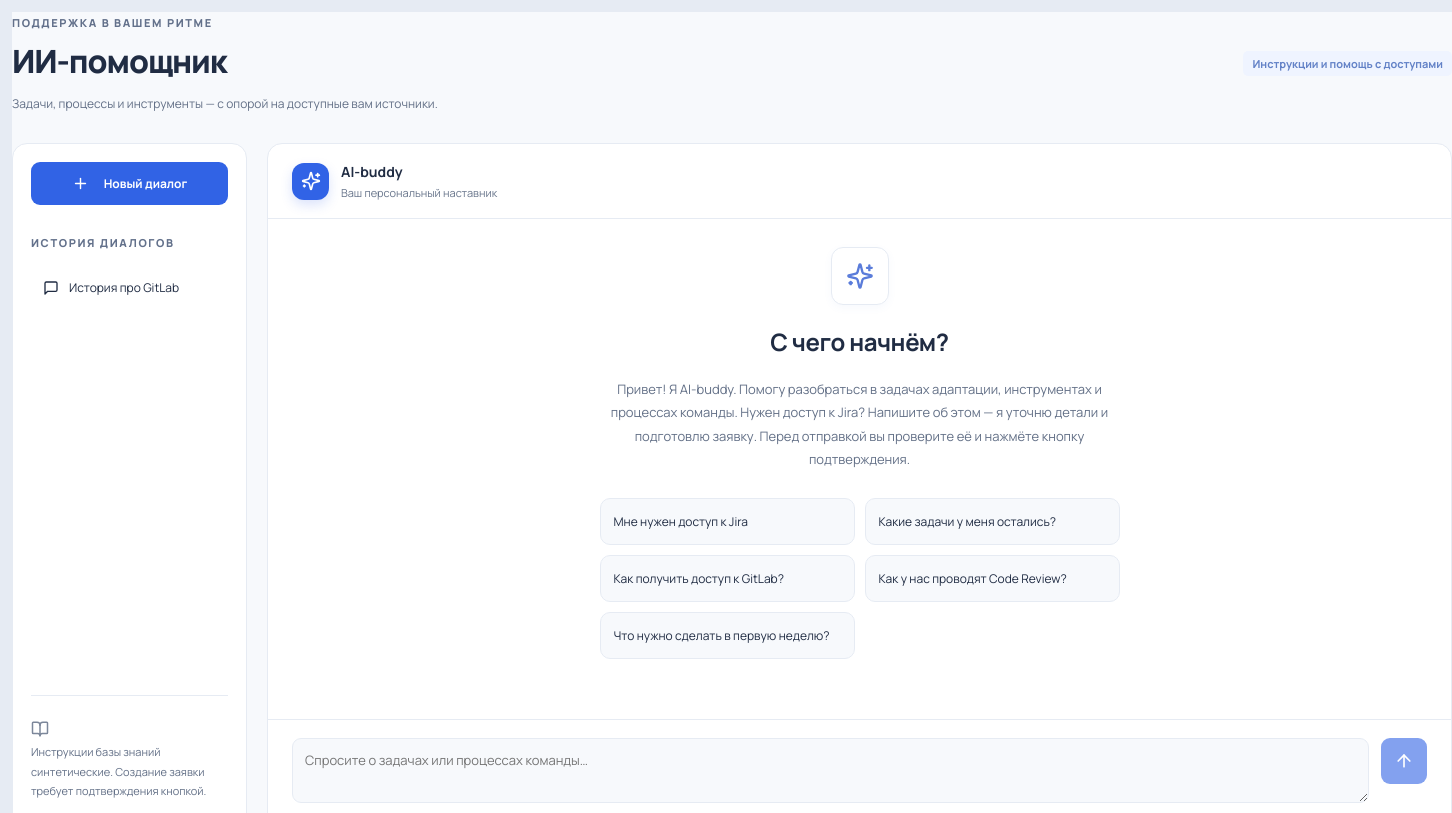
Test: history errors and new conversation errors
(page scrolled)
Check: the text "История про GitLab" is shown, box [69,279,179,296]
Click the button "История про GitLab": (130, 288) [31,267,228,308]
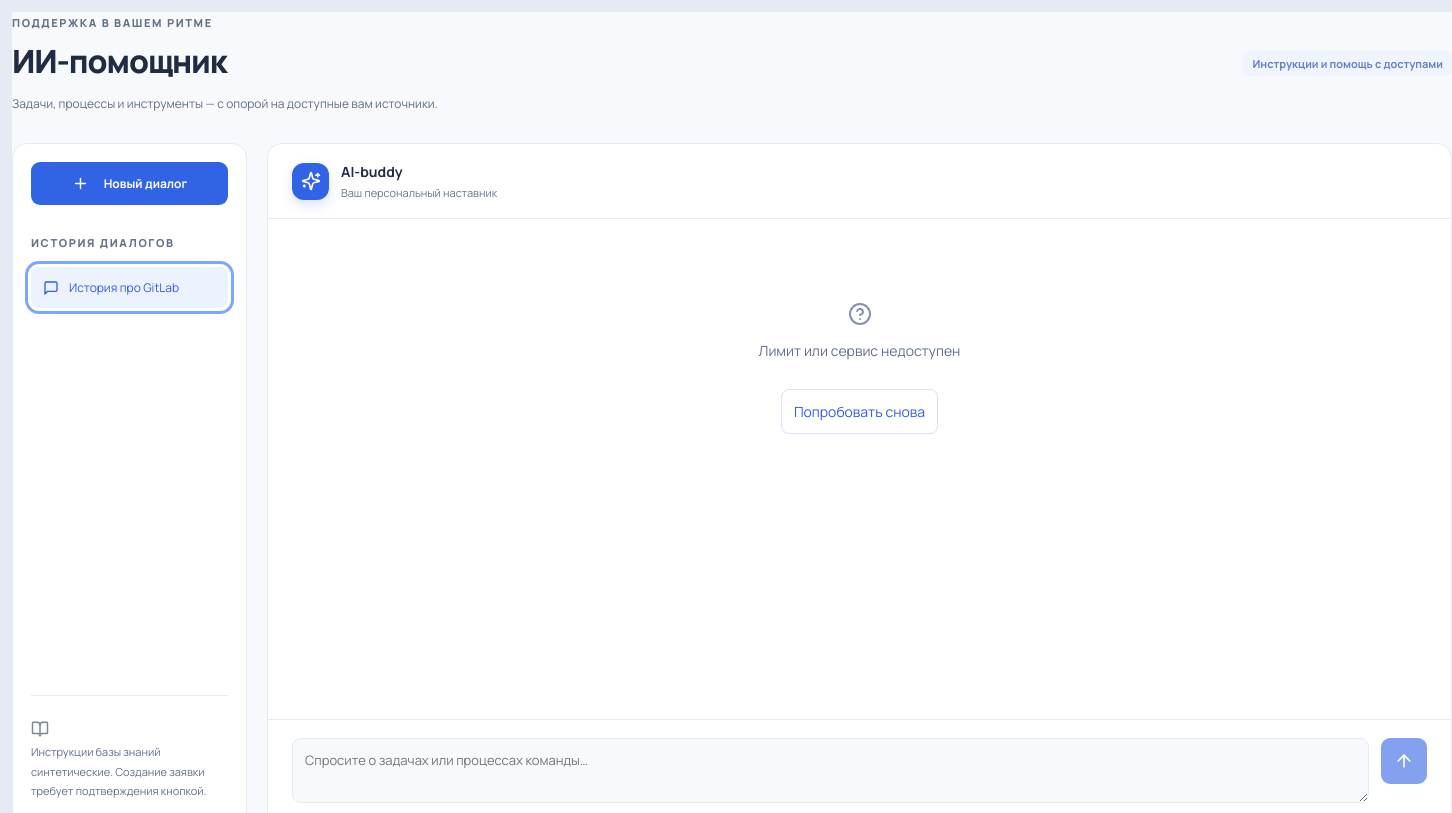
Check: the message "Лимит или сервис недоступен Попробовать снова" is shown, box [759,302,960,434]
Click the button "Попробовать снова": (860, 412) [781,389,938,434]
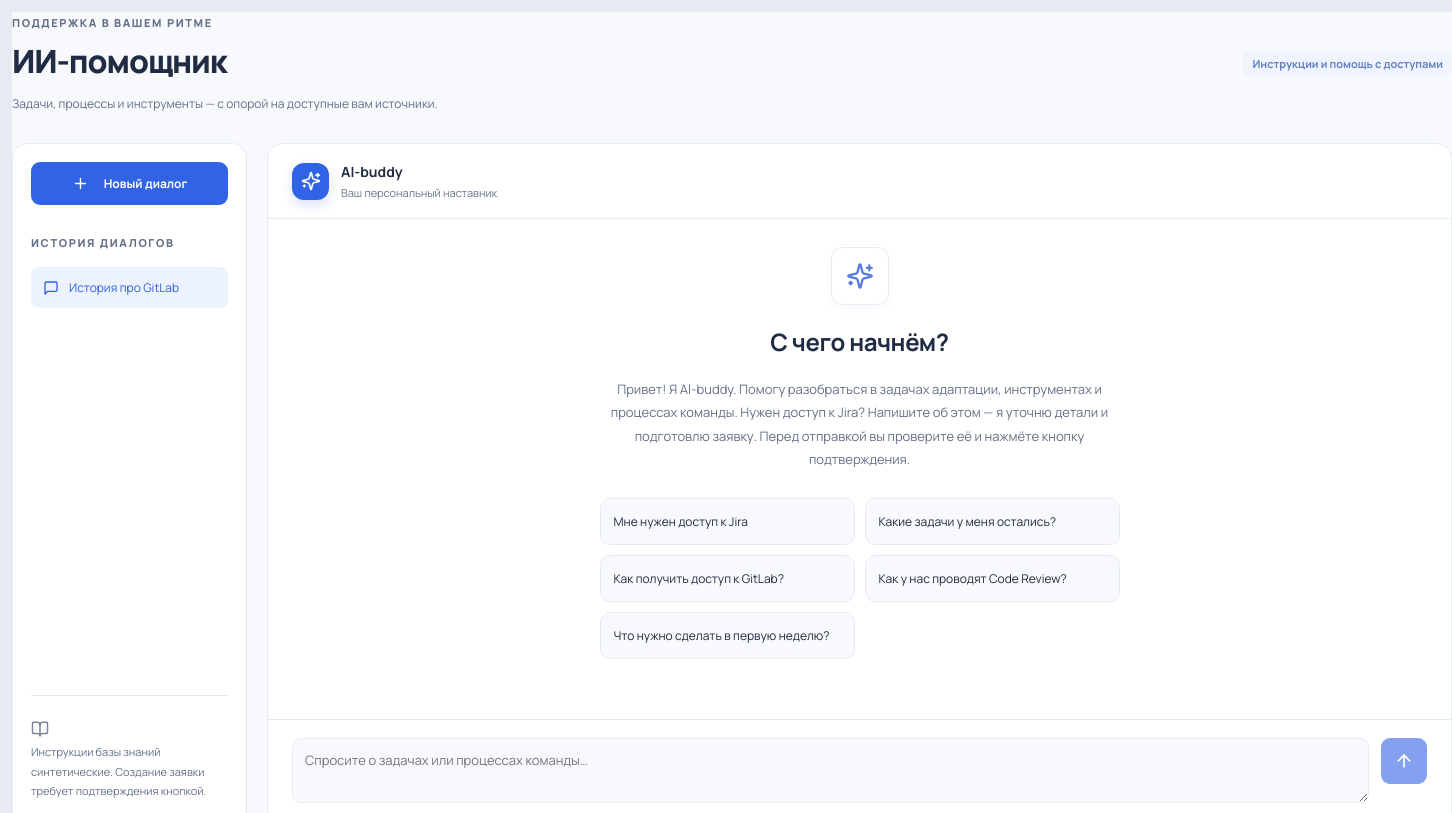
Check: the heading "С чего начнём?" is shown, box [770,325,949,358]
Click the button "Новый диалог": (130, 184) [31,162,228,205]
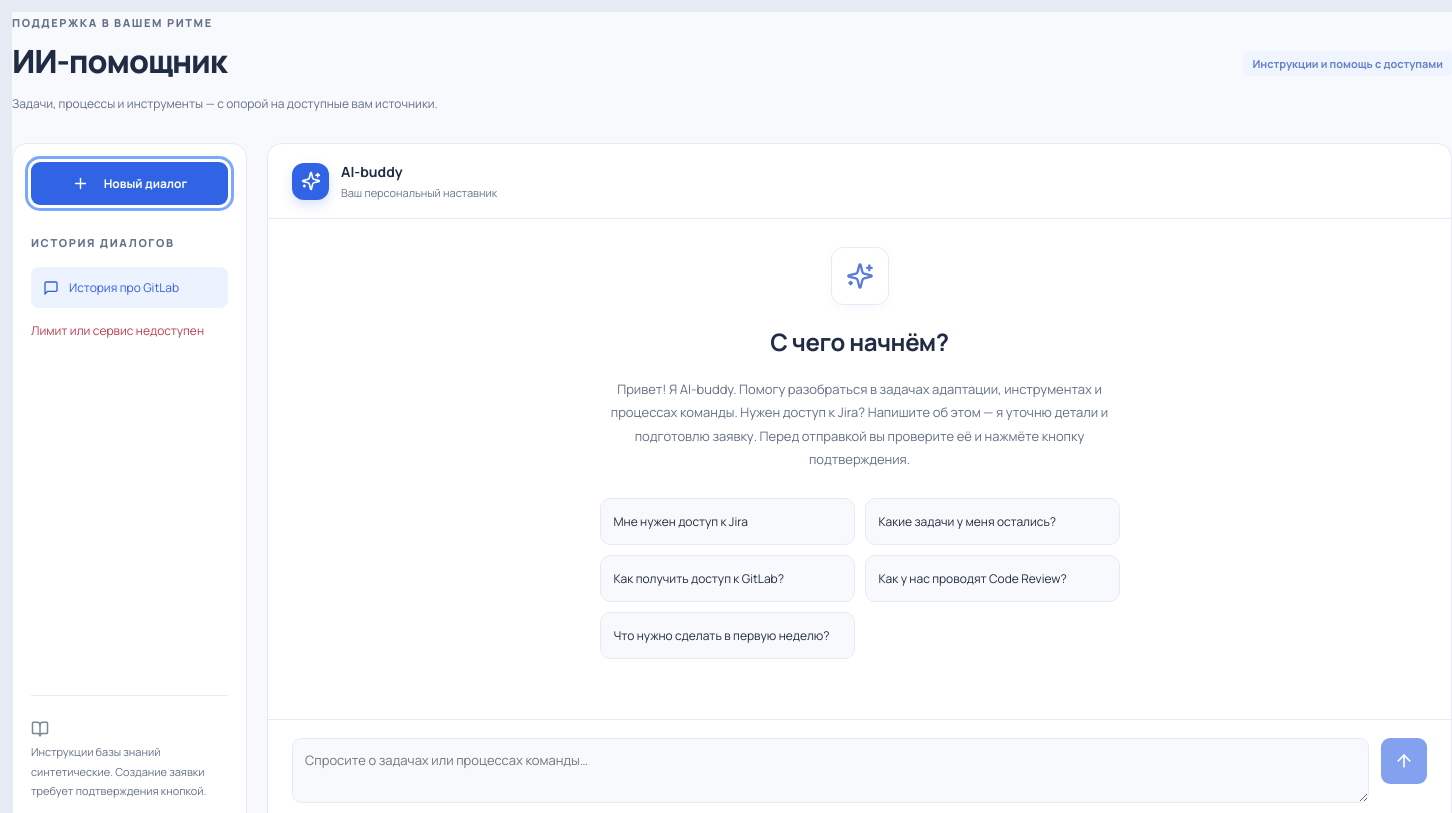
Check: the message "Лимит или сервис недоступен" is shown, box [31,320,228,342]
